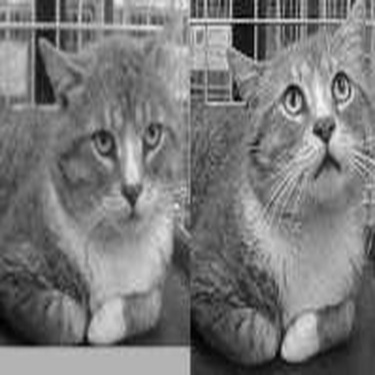cat: (194, 4, 372, 367), (1, 5, 185, 342)
